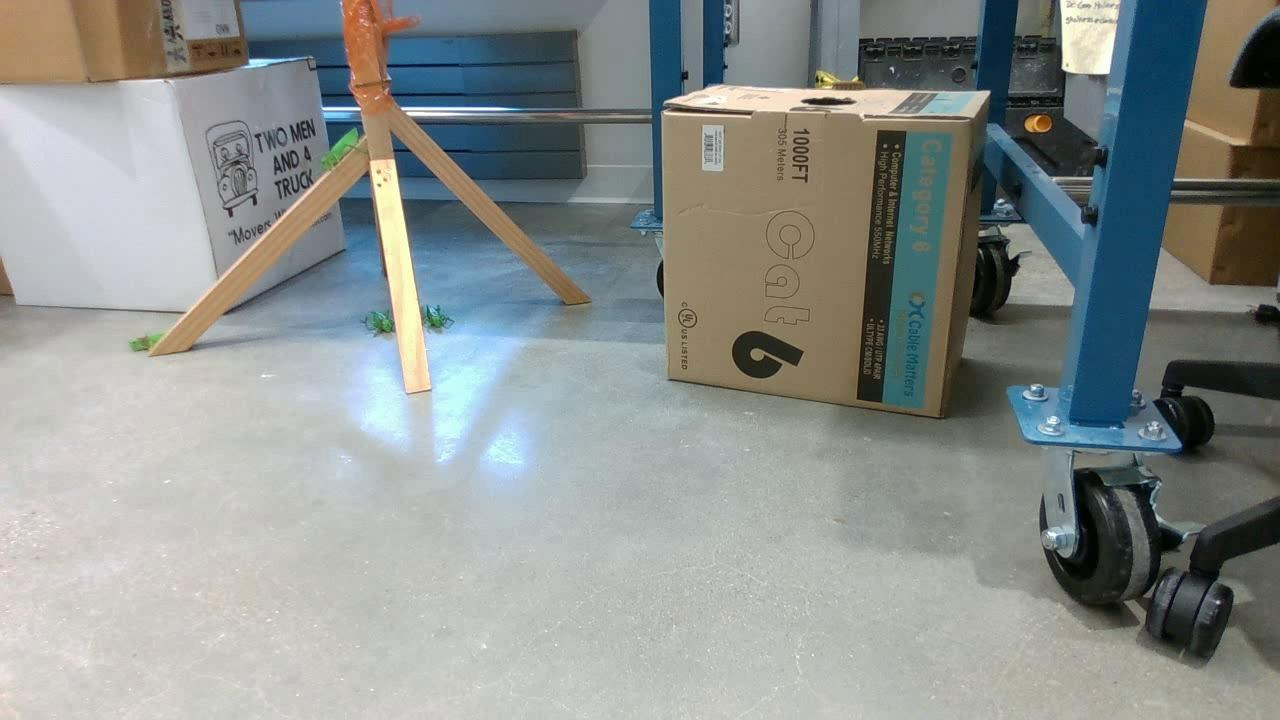grasshopper: (319, 120, 363, 177), (346, 308, 398, 332), (421, 298, 456, 333), (128, 329, 166, 350)
